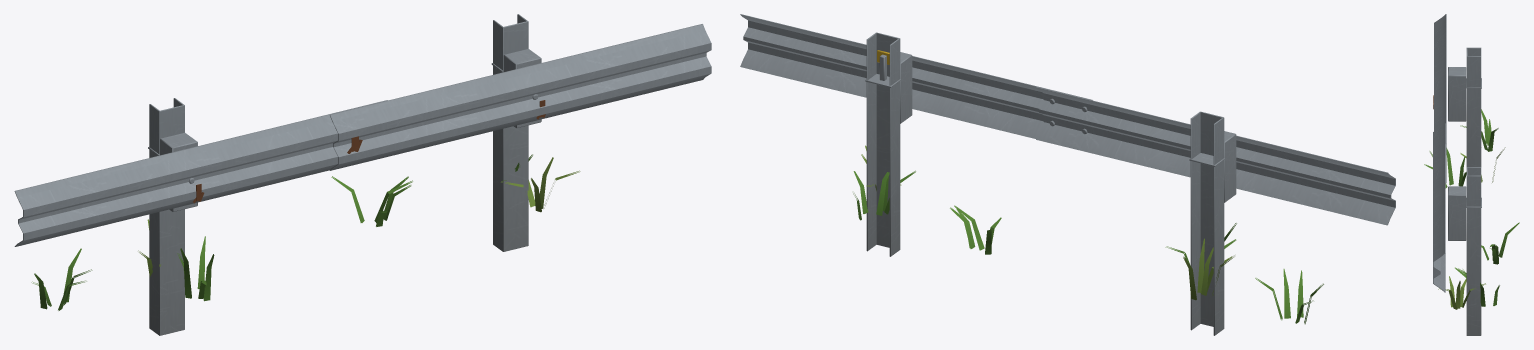
Rendered from guard_rail.glb.
3 views of the same model, side by side, from view 1: azimuth 30°, elevation 25°; view 2: azimuth 150°, elevation 25°; view 3: azimuth 270°, elevation 25° (orthographic). The views are drawn at different scales.
Parts seen in each view (by area): view 1: guard_rail; view 2: guard_rail; view 3: guard_rail.
Boxes of the visible parts, box(x1,y1,x2,y2) form: guard_rail: box(14, 14, 711, 335); guard_rail: box(740, 14, 1395, 335); guard_rail: box(1424, 14, 1519, 335).
Bounding box in the file's own units: 4 × 1.25 × 0.6787.
8 materials, 8 textured.
